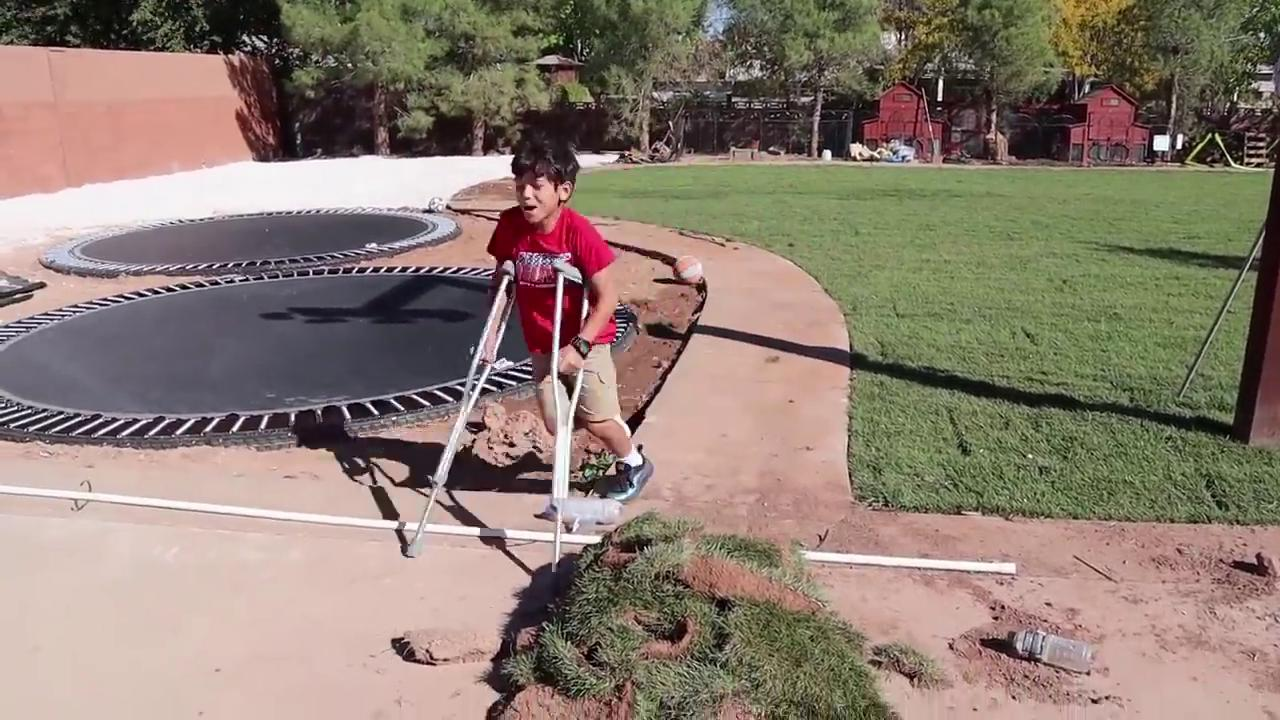crutches: (406, 140, 652, 573)
